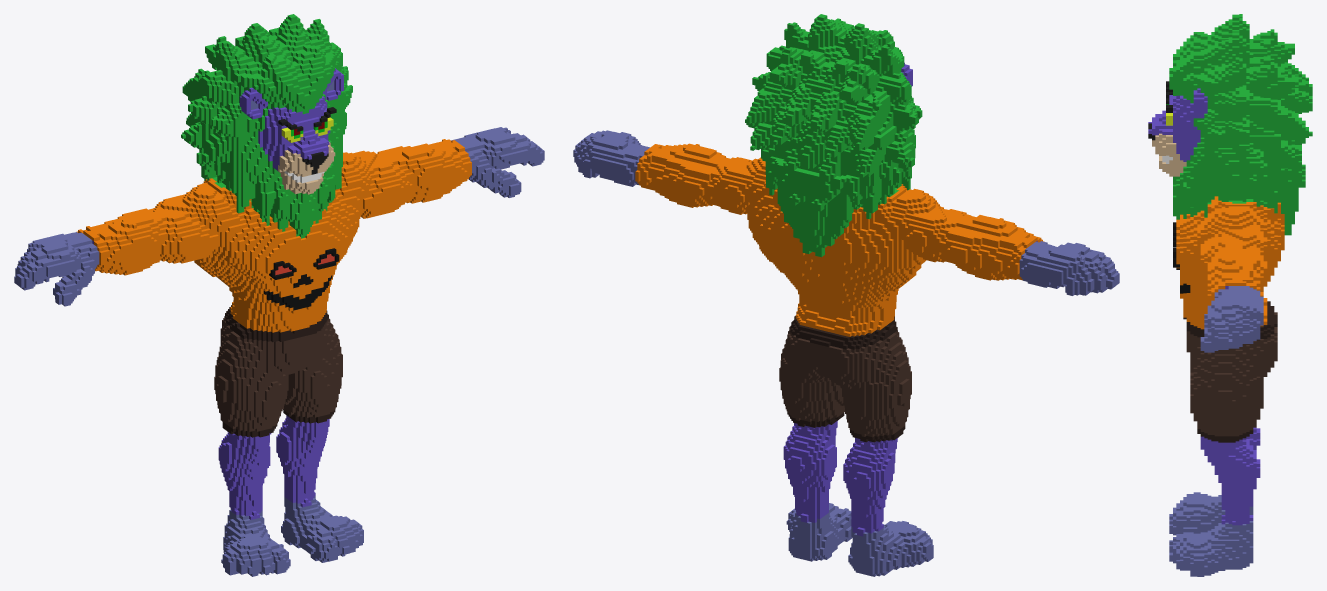
File: 82-DzjA5HgV.glb
The picture shows the model from 3 angles, left to right: view 1: azimuth 30°, elevation 25°; view 2: azimuth 150°, elevation 25°; view 3: azimuth 270°, elevation 25°; orthographic projection. The views are drawn at different scales.
Visible parts, largest first — view 1: big_smile; view 2: big_smile; view 3: big_smile.
Boxes of the visible parts, x1=… form: big_smile: x1=14, y1=14, x2=544, y2=576; big_smile: x1=573, y1=14, x2=1119, y2=576; big_smile: x1=1148, y1=14, x2=1312, y2=576.
Size of the model in its own units: 17.2 by 16.5 by 4.7.
5 materials, 5 textured.
